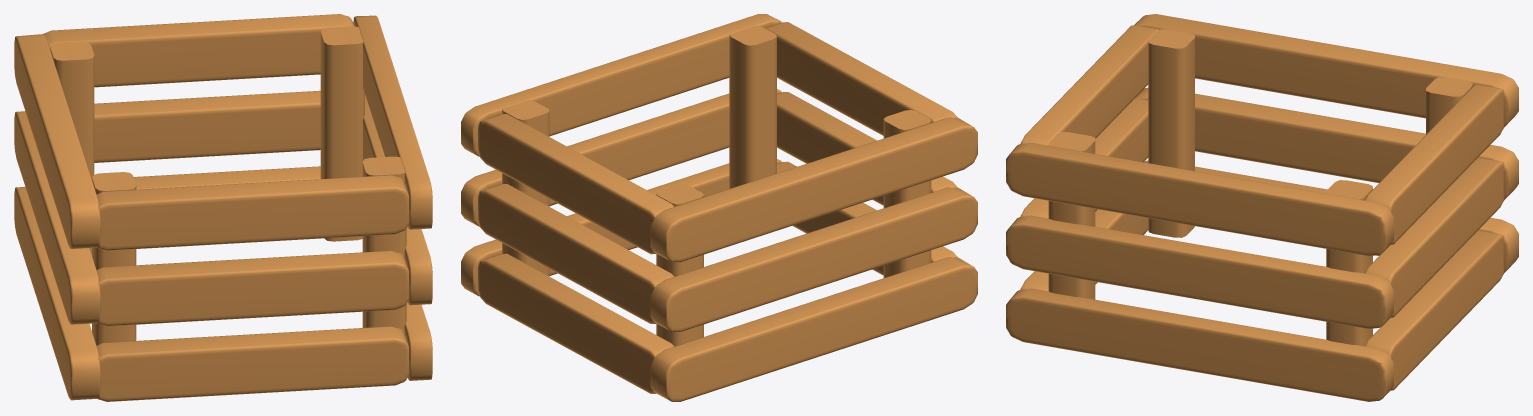
Rendered from obstaculo huacal.glb.
3 renders of one model, left to right at view 1: azimuth 30°, elevation 25°; view 2: azimuth 150°, elevation 25°; view 3: azimuth 270°, elevation 25°, orthographic. The views are drawn at different scales.
Parts seen in each view (by area): view 1: Cube.001; view 2: Cube.001; view 3: Cube.001.
Part boxes in pixels (x1,y1,x2,y2): Cube.001: [14, 14, 432, 401]; Cube.001: [461, 14, 977, 401]; Cube.001: [1006, 14, 1518, 401].
Bounding box in the file's own units: 1.88 × 0.8264 × 2.01.
Materials: 1 (1 with a texture image).
